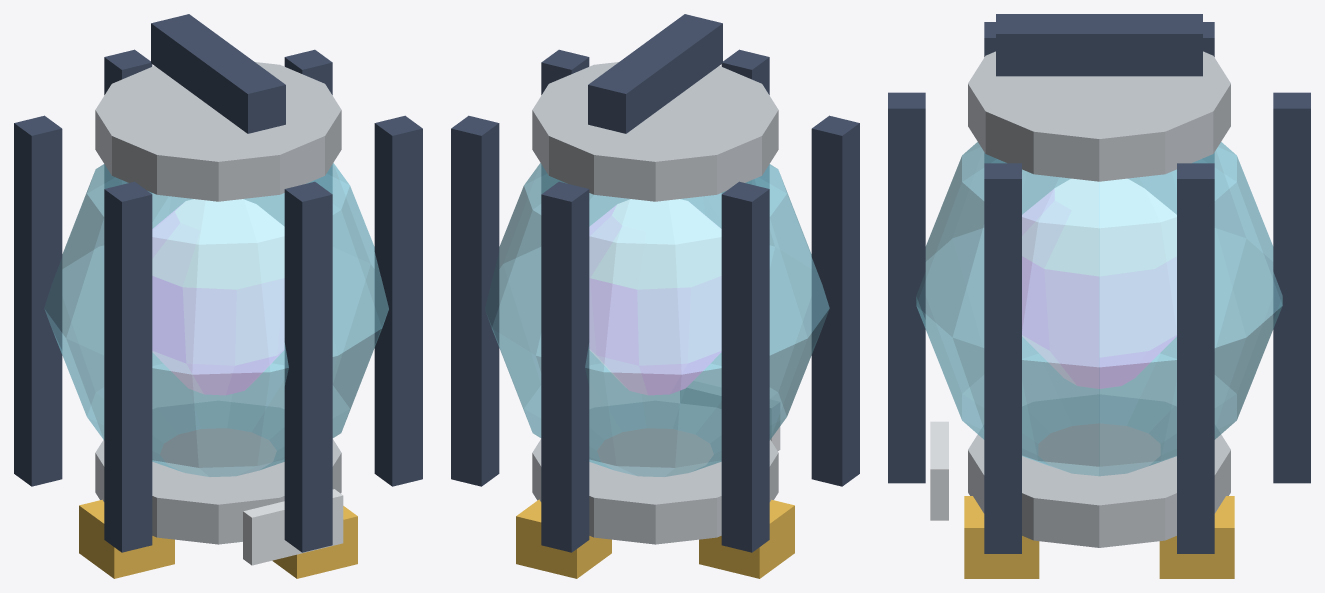
Rendered from fragile_bio_sample.glb.
3 views of the same model, side by side, from view 1: azimuth 30°, elevation 25°; view 2: azimuth 150°, elevation 25°; view 3: azimuth 270°, elevation 25° (orthographic). The views are drawn at different scales.
Parts seen in each view (by area): view 1: DL004_FragileBioSample_graphite_navy, DL004_FragileBioSample_glass_cyan, DL004_FragileBioSample_titanium, DL004_FragileBioSample_specimen_violet, DL004_FragileBioSample_amber_accent, DL004_FragileBioSample_hull_offwhite; view 2: DL004_FragileBioSample_graphite_navy, DL004_FragileBioSample_glass_cyan, DL004_FragileBioSample_titanium, DL004_FragileBioSample_specimen_violet, DL004_FragileBioSample_amber_accent, DL004_FragileBioSample_hull_offwhite; view 3: DL004_FragileBioSample_graphite_navy, DL004_FragileBioSample_glass_cyan, DL004_FragileBioSample_titanium, DL004_FragileBioSample_specimen_violet, DL004_FragileBioSample_amber_accent, DL004_FragileBioSample_hull_offwhite.
Boxes of the visible parts, box(x1,y1,x2,y2) form: DL004_FragileBioSample_graphite_navy: box(14, 14, 422, 552); DL004_FragileBioSample_glass_cyan: box(44, 163, 388, 476); DL004_FragileBioSample_titanium: box(95, 62, 341, 544); DL004_FragileBioSample_specimen_violet: box(152, 199, 284, 395); DL004_FragileBioSample_amber_accent: box(79, 499, 357, 578); DL004_FragileBioSample_hull_offwhite: box(243, 489, 343, 565); DL004_FragileBioSample_graphite_navy: box(451, 14, 859, 552); DL004_FragileBioSample_glass_cyan: box(485, 163, 829, 476); DL004_FragileBioSample_titanium: box(532, 62, 778, 544); DL004_FragileBioSample_specimen_violet: box(589, 199, 721, 395); DL004_FragileBioSample_amber_accent: box(516, 499, 794, 578); DL004_FragileBioSample_hull_offwhite: box(680, 381, 780, 450); DL004_FragileBioSample_graphite_navy: box(888, 14, 1310, 553); DL004_FragileBioSample_glass_cyan: box(916, 142, 1282, 476); DL004_FragileBioSample_titanium: box(968, 51, 1230, 547); DL004_FragileBioSample_specimen_violet: box(1022, 178, 1176, 388); DL004_FragileBioSample_amber_accent: box(964, 496, 1234, 578); DL004_FragileBioSample_hull_offwhite: box(930, 421, 948, 520).
Bounding box in the file's own units: 0.4 × 0.605 × 0.45.
